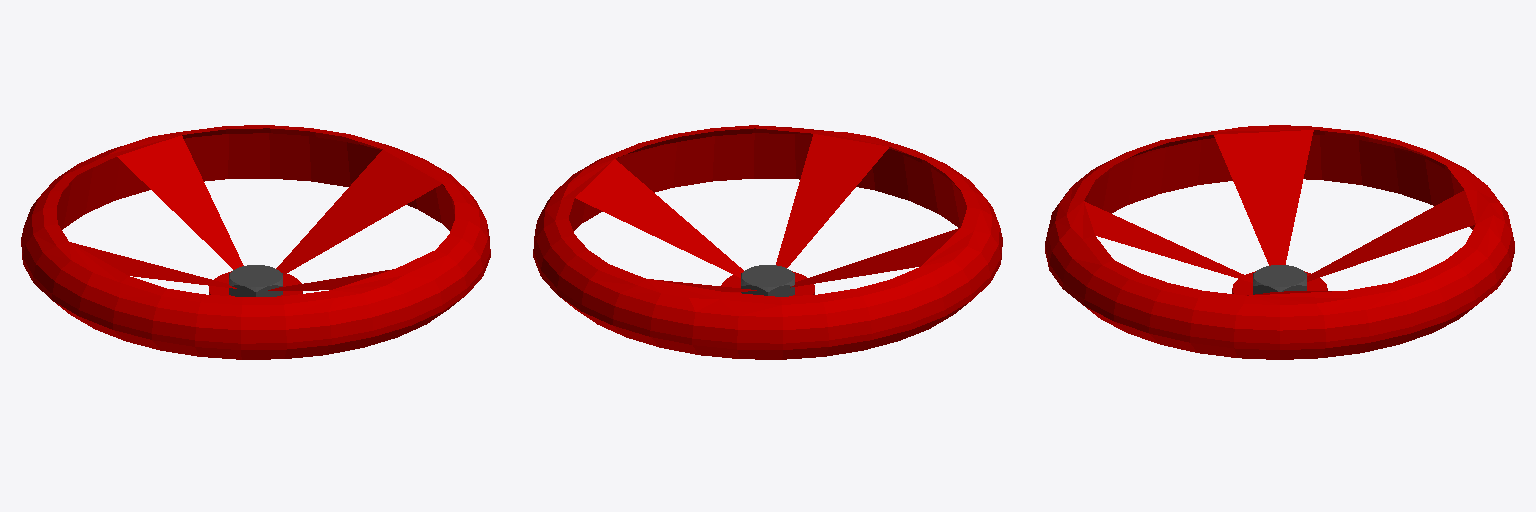
Rendered from Valvula.obj.
The picture shows the model from 3 angles: view 1: azimuth 30°, elevation 25°; view 2: azimuth 150°, elevation 25°; view 3: azimuth 270°, elevation 25°; orthographic projection.
Visible parts, largest first — view 1: Cylinder, Bolt.001; view 2: Cylinder, Bolt.001; view 3: Cylinder, Bolt.001.
Boxes of the visible parts, x1,y1,x2,y2 form: Cylinder: [21, 125, 490, 359]; Bolt.001: [229, 265, 282, 296]; Cylinder: [533, 125, 1002, 359]; Bolt.001: [741, 265, 794, 296]; Cylinder: [1045, 125, 1514, 359]; Bolt.001: [1253, 265, 1306, 294].
Size of the model in its own units: 0.7588 by 0.154 by 0.7588.